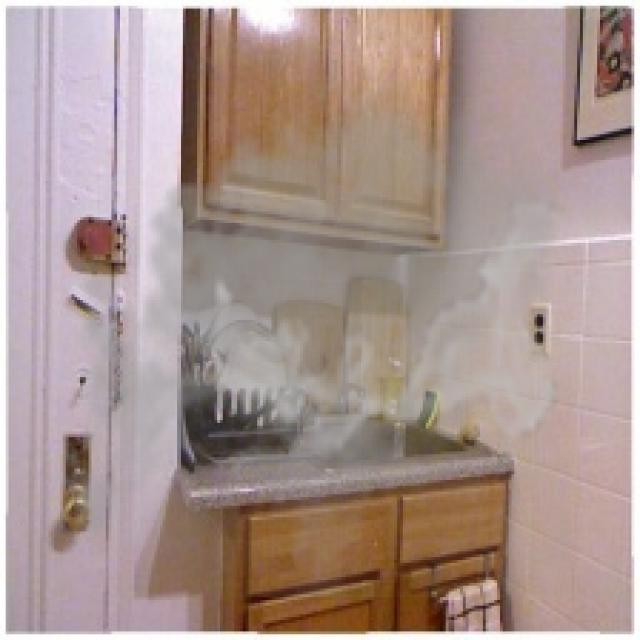smoke: (43, 63, 571, 597)
